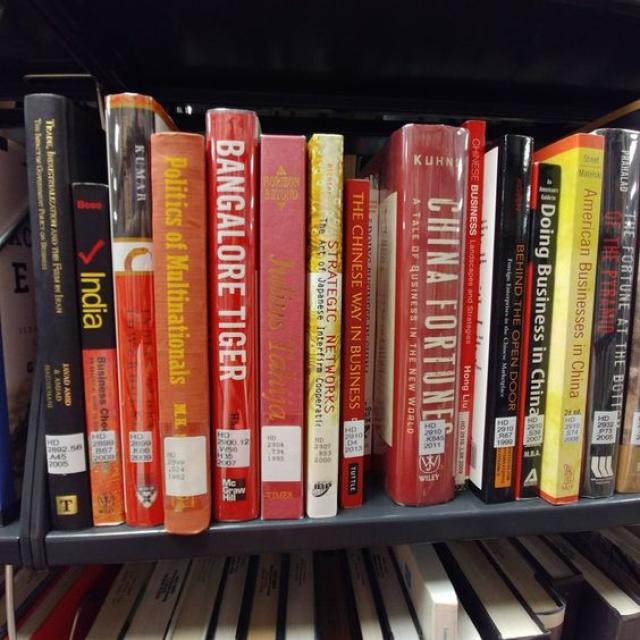book: (23, 97, 93, 532), (400, 122, 470, 505), (107, 94, 163, 525), (151, 135, 211, 532), (206, 110, 256, 520), (586, 128, 640, 499), (71, 182, 124, 526), (558, 134, 606, 504), (489, 134, 535, 503), (263, 134, 305, 520), (517, 164, 561, 498), (306, 134, 343, 517), (455, 120, 487, 492), (342, 180, 369, 508)
